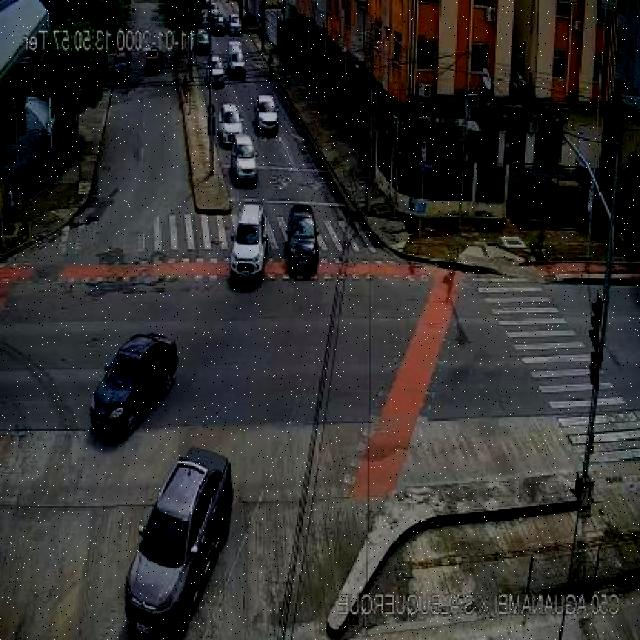Car: (125, 446, 231, 639), (90, 333, 179, 443), (228, 202, 270, 286), (286, 203, 320, 276), (230, 134, 258, 184), (218, 104, 243, 145), (255, 94, 278, 134), (207, 55, 224, 85), (145, 47, 161, 72), (212, 15, 227, 36), (228, 14, 242, 36), (113, 53, 129, 72)
Truck: (227, 41, 247, 78)
